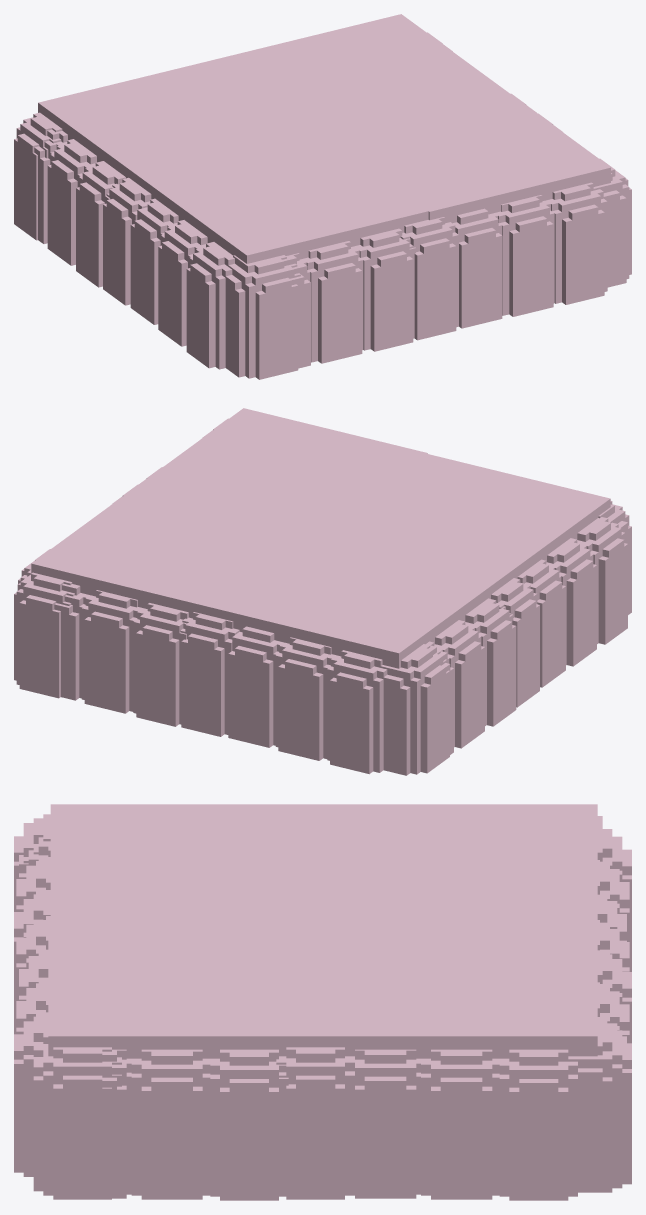
File: level_base.vox.obj
The picture shows the model from 3 angles, top to bottom: view 1: azimuth 30°, elevation 25°; view 2: azimuth 150°, elevation 25°; view 3: azimuth 270°, elevation 25°; orthographic projection. The views are drawn at different scales.
Size of the model in its own units: 25.6 by 6.7 by 25.2.
Materials: 1 (1 with a texture image).
